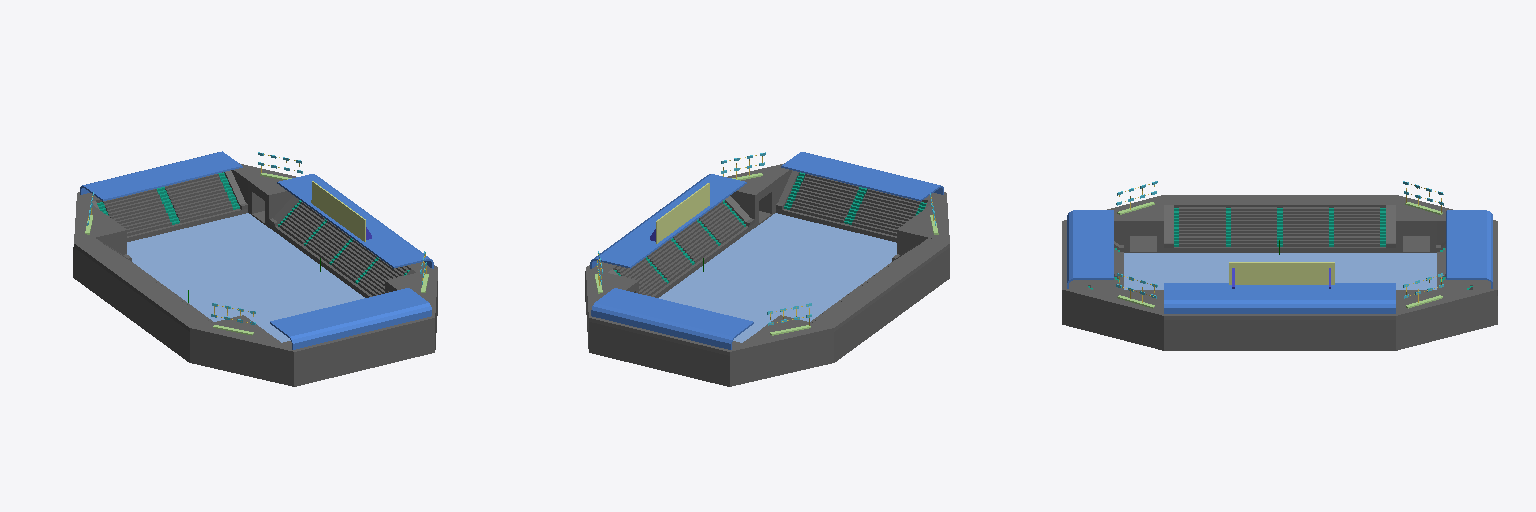
The model's file is estadio.obj.
3 views of the same model, side by side, from view 1: azimuth 30°, elevation 25°; view 2: azimuth 150°, elevation 25°; view 3: azimuth 270°, elevation 25° (orthographic).
Visible parts, largest first — view 1: stadium:Box177, stadium:Box166, stadium:Box165, stadium:Box189, stadium:Box169, stadium:Box187, stadium:Box192, stadium:Line028, stadium:Line039, stadium:Box162, stadium:Box168, stadium:Box181 (+8 smaller); view 2: stadium:Box177, stadium:Box166, stadium:Box176, stadium:Box192, stadium:Box168, stadium:Box187, stadium:Box189, stadium:Line029, stadium:Line035, stadium:Box167, stadium:Box169, stadium:Box181 (+8 smaller); view 3: stadium:Box164, stadium:Box177, stadium:Box187, stadium:Box166, stadium:Box162, stadium:Box167, stadium:Box189, stadium:Box192, stadium:Box181, stadium:Box169, stadium:Box168, stadium:Line038 (+6 smaller).
Boxes of the visible parts, x1,y1,x2,y2 form: stadium:Box177: [127, 213, 364, 342]; stadium:Box166: [73, 238, 211, 362]; stadium:Box165: [283, 316, 434, 386]; stadium:Box189: [270, 288, 431, 349]; stadium:Box169: [190, 315, 294, 386]; stadium:Box187: [277, 174, 433, 268]; stadium:Box192: [80, 151, 242, 200]; stadium:Line028: [165, 174, 232, 222]; stadium:Line039: [102, 189, 171, 235]; stadium:Box162: [231, 163, 295, 227]; stadium:Box168: [74, 193, 126, 254]; stadium:Box181: [311, 181, 365, 241]; stadium:Box177: [659, 213, 896, 342]; stadium:Box166: [812, 238, 949, 362]; stadium:Box176: [589, 316, 740, 386]; stadium:Box192: [591, 288, 753, 349]; stadium:Box168: [730, 315, 833, 386]; stadium:Box187: [590, 174, 746, 268]; stadium:Box189: [781, 152, 943, 201]; stadium:Line029: [790, 174, 858, 222]; stadium:Line035: [852, 189, 921, 235]; stadium:Box167: [727, 163, 791, 227]; stadium:Box169: [897, 193, 949, 254]; stadium:Box181: [656, 183, 709, 243]; stadium:Box164: [1164, 314, 1395, 350]; stadium:Box177: [1124, 253, 1436, 289]; stadium:Box187: [1164, 283, 1395, 313]; stadium:Box166: [1164, 195, 1395, 252]; stadium:Box162: [1396, 290, 1497, 350]; stadium:Box167: [1062, 290, 1163, 350]; stadium:Box189: [1067, 210, 1113, 288]; stadium:Box192: [1446, 210, 1492, 288]; stadium:Box181: [1229, 262, 1334, 284]; stadium:Box169: [1064, 195, 1163, 252]; stadium:Box168: [1396, 195, 1495, 252]; stadium:Line038: [1179, 207, 1225, 246].
Bounding box in the file's own units: 268 × 70.45 × 406.